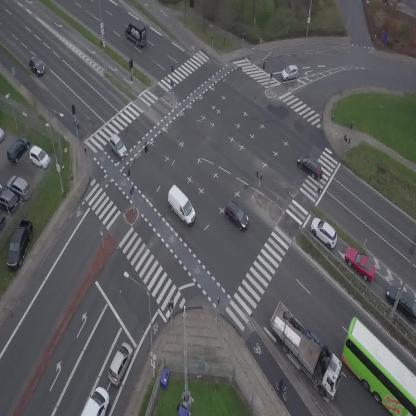bicycle: (275, 379, 289, 402)
car: (340, 242, 382, 285), (103, 340, 137, 387), (305, 213, 343, 251), (81, 383, 116, 416), (292, 149, 327, 181), (220, 200, 253, 231), (104, 133, 131, 160), (25, 55, 48, 78), (279, 63, 300, 81)
lorry: (256, 298, 356, 403), (160, 183, 202, 227), (121, 17, 154, 49)
